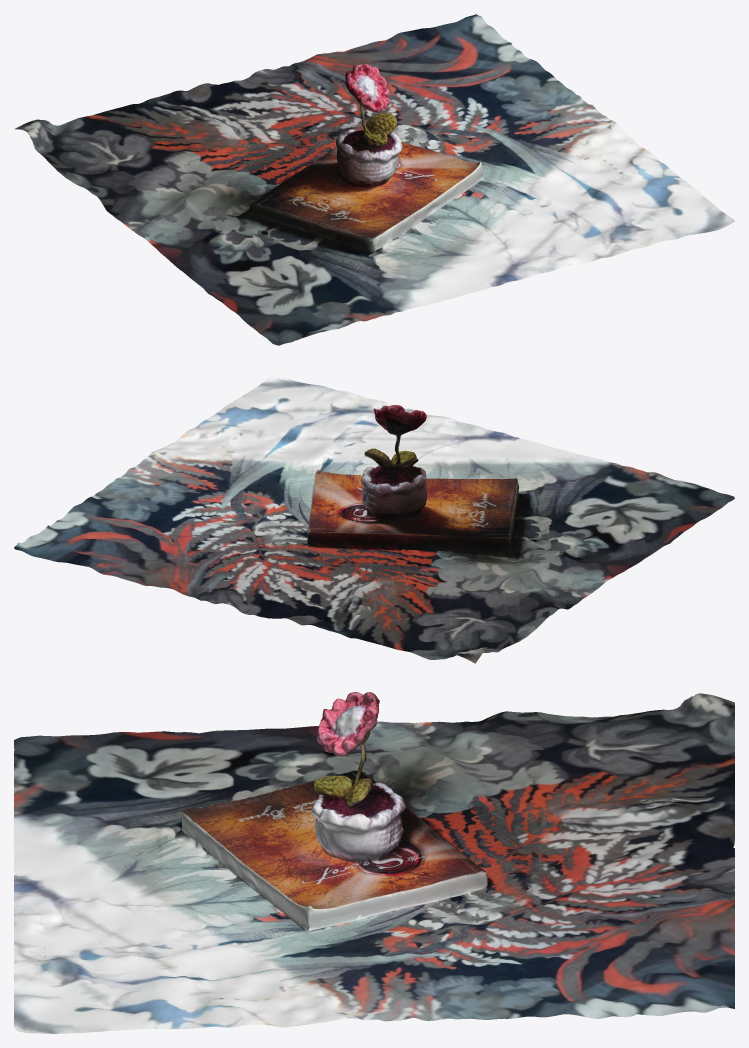
Rendered from crochet-flower.glb.
3 renders of one model, top to bottom at view 1: azimuth 30°, elevation 25°; view 2: azimuth 150°, elevation 25°; view 3: azimuth 270°, elevation 25°, orthographic. The views are drawn at different scales.
Parts seen in each view (by area): view 1: 3DModel; view 2: 3DModel; view 3: 3DModel.
Boxes of the visible parts, x1,y1,x2,y2 form: 3DModel: (14, 14, 734, 345); 3DModel: (14, 374, 734, 663); 3DModel: (14, 692, 734, 1033).
Bounding box in the file's own units: 2.38 × 0.6647 × 2.33.
1 material, 1 textured.
